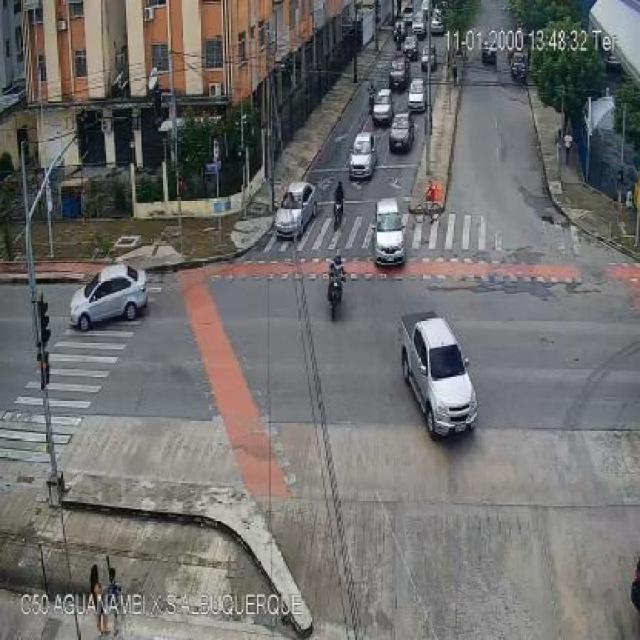Car: (69, 263, 146, 329), (275, 181, 317, 238), (372, 200, 406, 268), (348, 133, 376, 178), (389, 113, 415, 152), (371, 90, 393, 124), (408, 78, 427, 114), (389, 59, 409, 89), (421, 45, 437, 72), (510, 51, 528, 74), (402, 36, 419, 60), (481, 40, 498, 64), (430, 19, 444, 35)
Cycle: (326, 271, 348, 320), (412, 196, 442, 224), (331, 198, 346, 230)
Truck: (397, 312, 477, 436)
